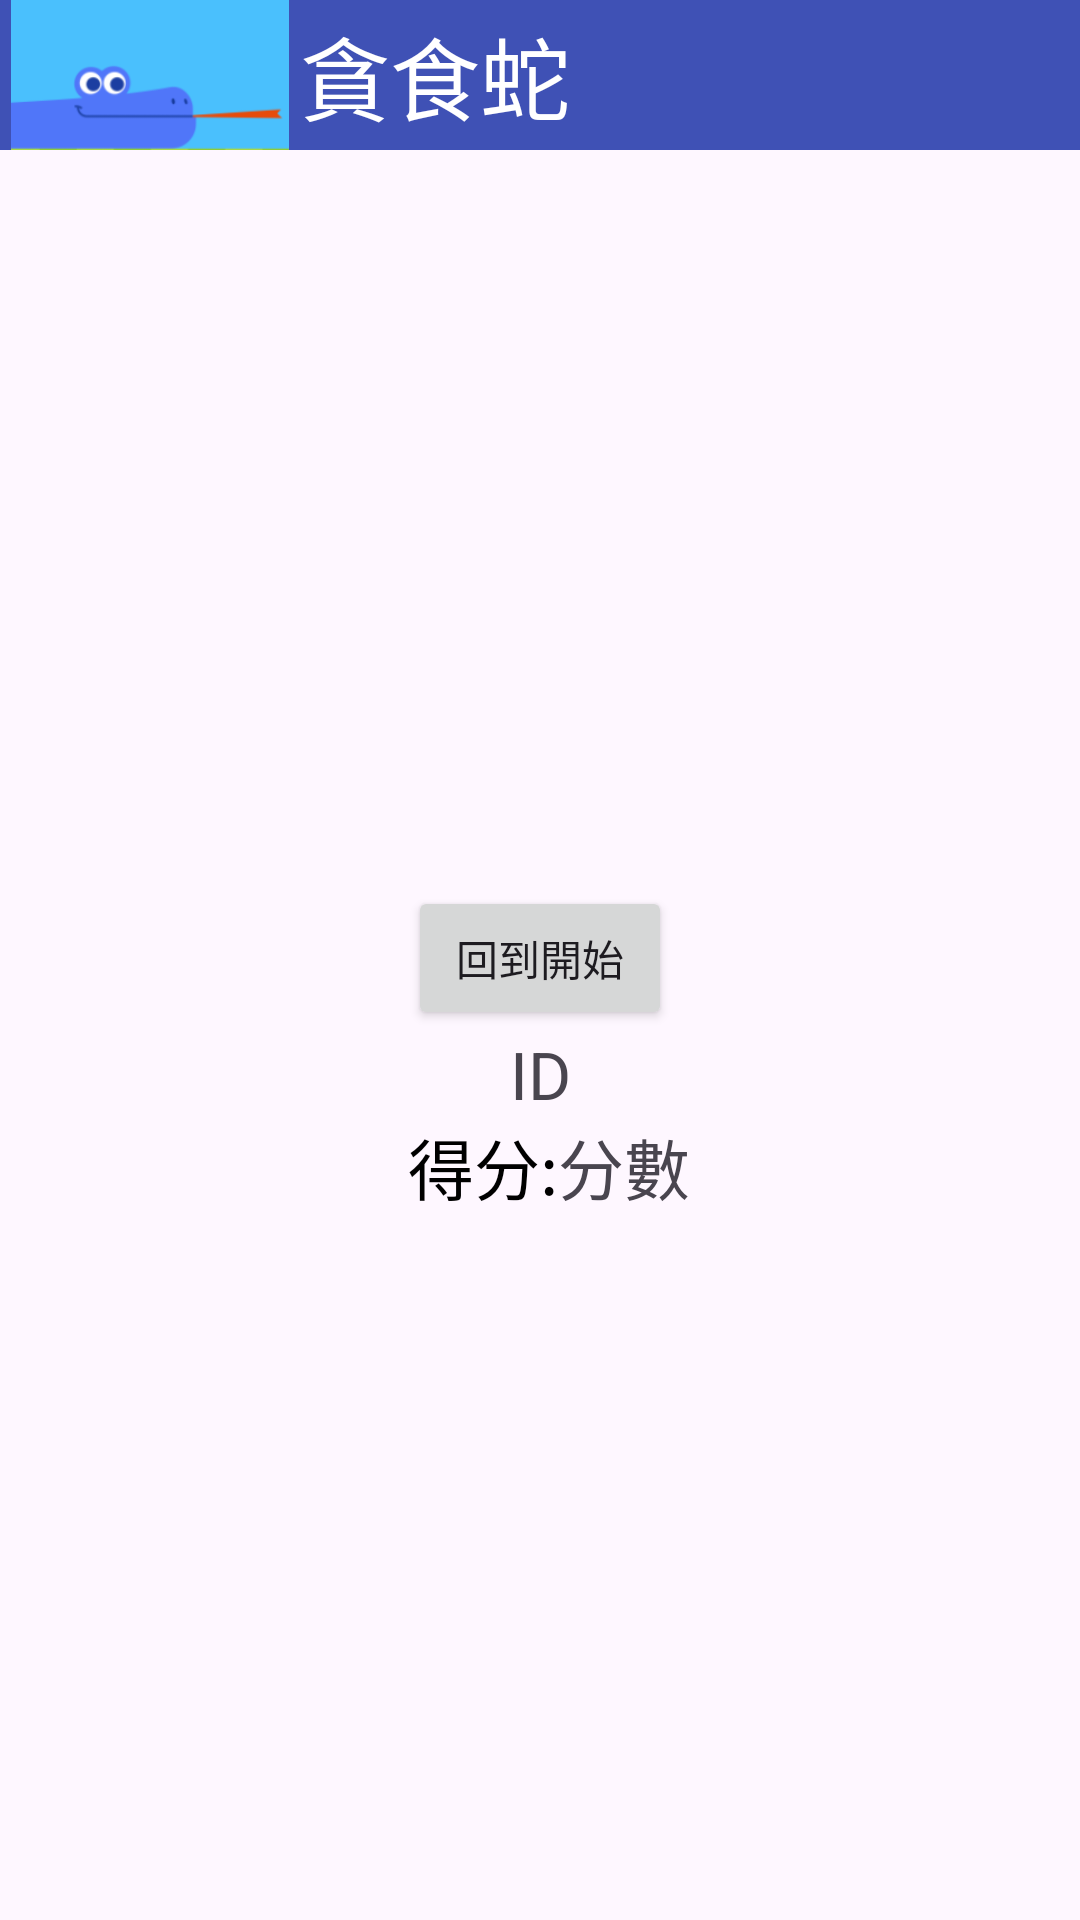

Named icons in this screenshot (1080 x 1920) and their bounding boxes, (x1, y1, x2, y2):
snake: (0, 0, 300, 150)
